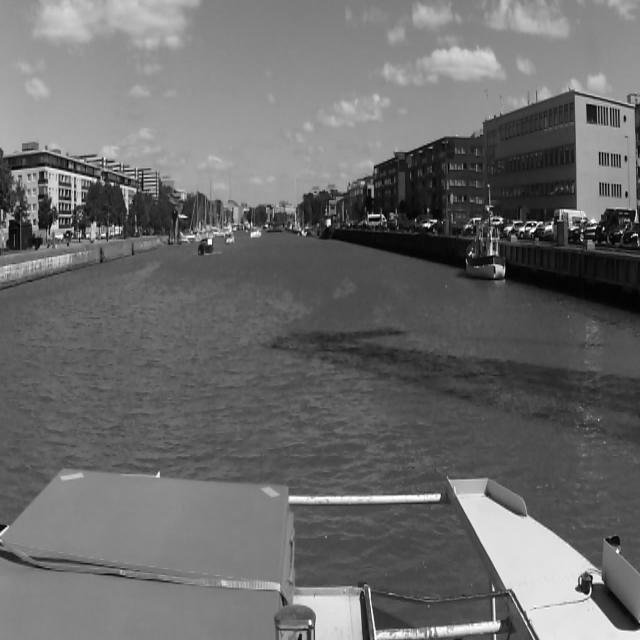ship: (465, 205, 506, 280), (182, 182, 196, 249), (250, 206, 262, 239), (198, 237, 214, 256), (263, 220, 281, 232), (225, 232, 235, 244)
